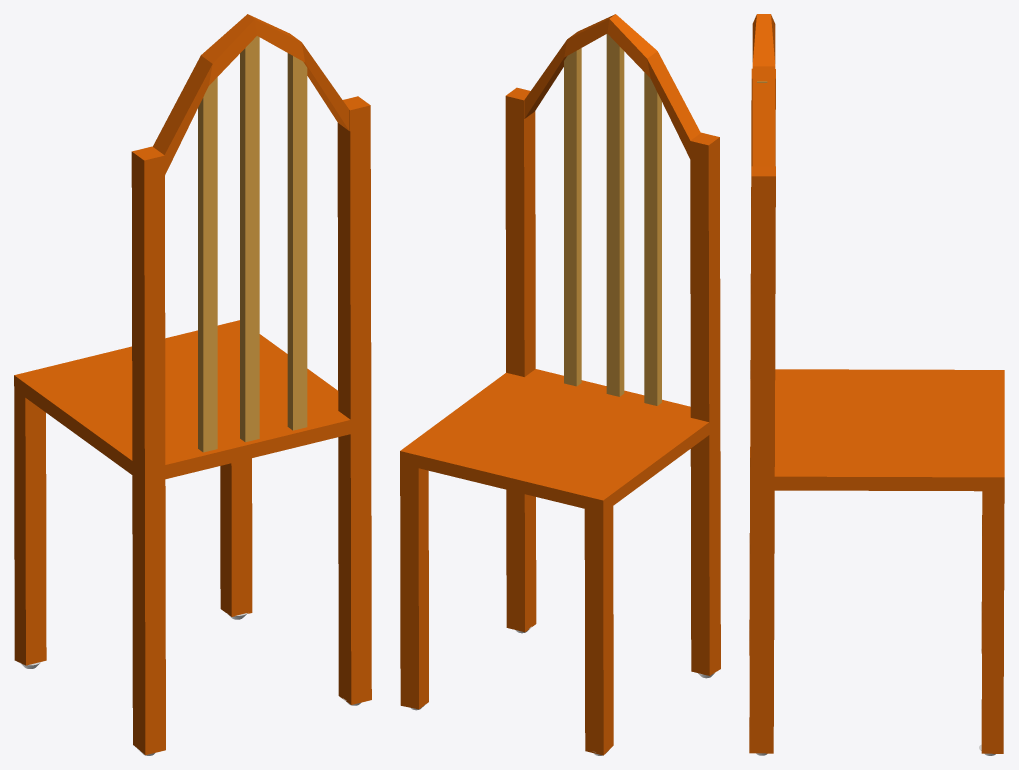
Rendered from furniture_diningchair.fbx.
3 renders of one model, left to right at view 1: azimuth 30°, elevation 25°; view 2: azimuth 150°, elevation 25°; view 3: azimuth 270°, elevation 25°, orthographic. The views are drawn at different scales.
Parts seen in each view (by area): view 1: Cube, Cube.002, Cube.003, Cube.004, Cube.001; view 2: Cube, Cube.002, Cube.003, Cube.004, Cube.001; view 3: Cube, Cube.001.
Boxes of the visible parts, <box> form: Cube: <box>14,96,371,755</box>; Cube.002: <box>240,36,259,442</box>; Cube.003: <box>287,53,307,430</box>; Cube.004: <box>198,77,217,452</box>; Cube.001: <box>153,14,349,174</box>; Cube: <box>400,87,720,755</box>; Cube.002: <box>606,33,624,396</box>; Cube.003: <box>564,48,581,386</box>; Cube.004: <box>644,72,661,405</box>; Cube.001: <box>524,14,700,158</box>; Cube: <box>749,68,1004,753</box>; Cube.001: <box>752,14,775,166</box>.
Size of the model in its own units: 200 by 602 by 201.
